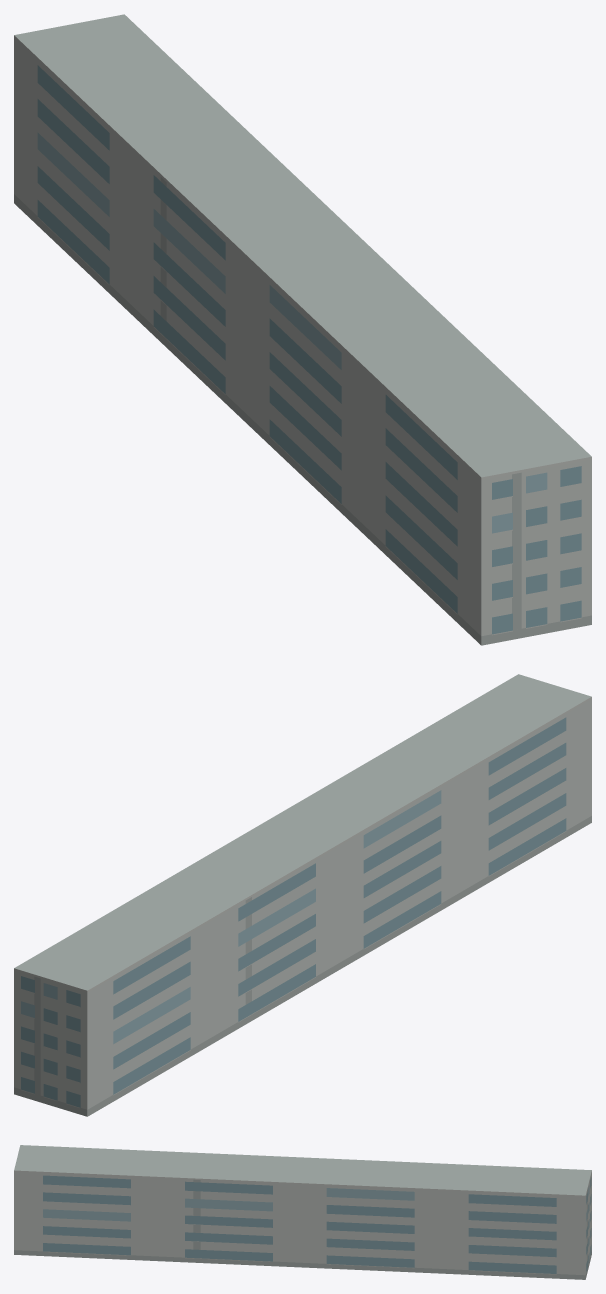
The model's file is survey-upis-32812381.glb.
The picture shows the model from 3 angles, top to bottom: view 1: azimuth 30°, elevation 25°; view 2: azimuth 150°, elevation 25°; view 3: azimuth 270°, elevation 25°; orthographic projection. The views are drawn at different scales.
Visible parts, largest first — view 1: survey-upis-32812381.tmp; view 2: survey-upis-32812381.tmp; view 3: survey-upis-32812381.tmp.
Boxes of the visible parts, <box> form: survey-upis-32812381.tmp: <box>14,14,591,645</box>; survey-upis-32812381.tmp: <box>14,674,591,1116</box>; survey-upis-32812381.tmp: <box>14,1145,591,1279</box>.
Bounding box in the file's own units: 19.65 × 15.25 × 94.75.
